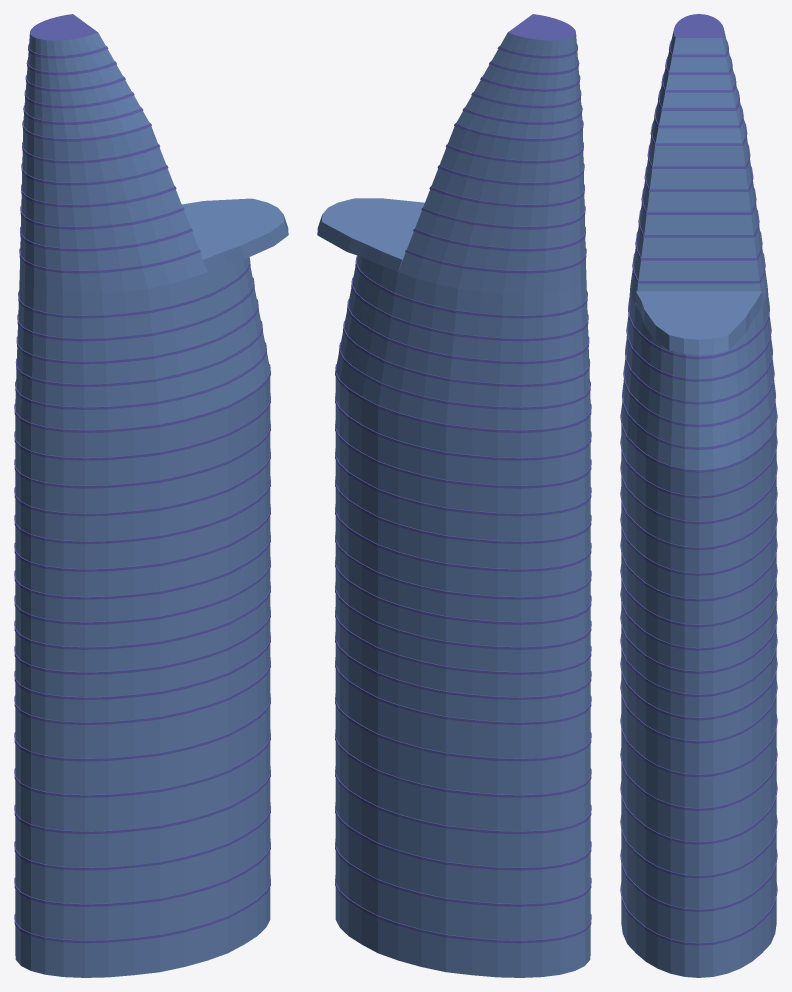
File: bitexco 2.0.fbx
3 renders of one model, left to right at view 1: azimuth 30°, elevation 25°; view 2: azimuth 150°, elevation 25°; view 3: azimuth 270°, elevation 25°, orthographic. The views are drawn at different scales.
Visible parts, largest first — view 1: Cylinder.002; view 2: Cylinder.002; view 3: Cylinder.002.
Part boxes in pixels (x1,y1,x2,y2): Cylinder.002: (14, 14, 288, 977); Cylinder.002: (317, 14, 591, 977); Cylinder.002: (620, 14, 777, 977).
Size of the model in its own units: 216 by 729 by 121.
